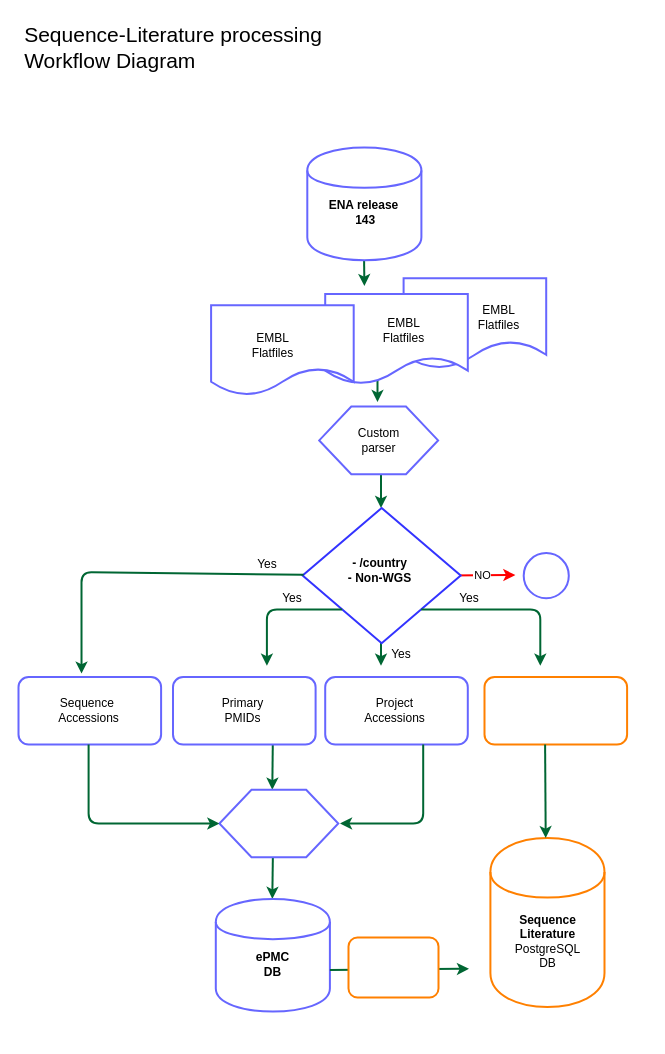
The diagram is 665 pixels wide and 1054 high, and some of its shapes have lost their labels. The centre of each missing label's shape, as x and y in pixels:
"ePMC API" goes at [278,823].
"Literature Features" goes at [393,967].
"Sequence Features" goes at [555,710].
"STOP" goes at [545,575].
